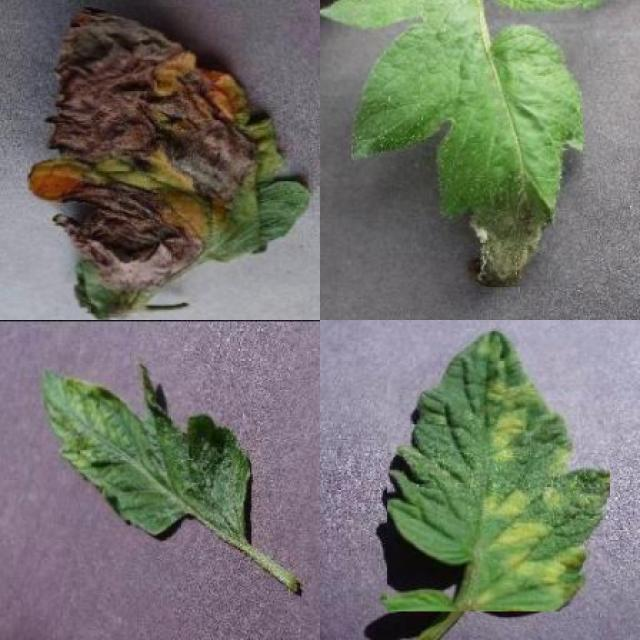Late Blight: (25, 7, 308, 320), (320, 0, 583, 287)
Leaf Mold: (387, 329, 610, 612)
Mosaic Virus: (38, 360, 252, 546)
